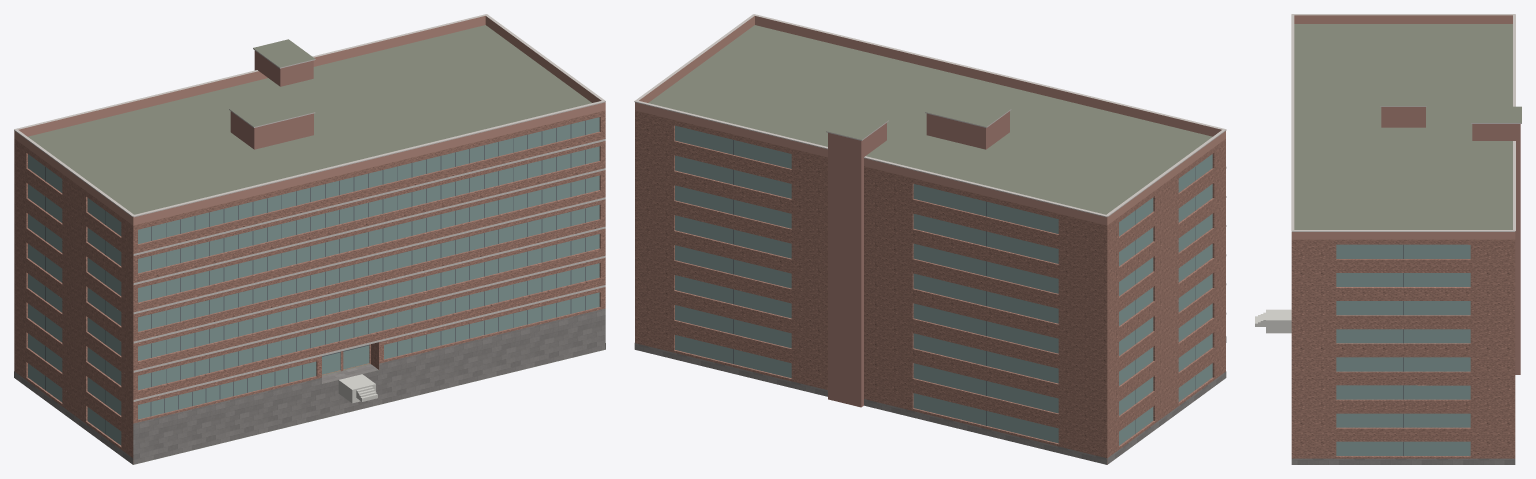
3 views of the same model, side by side, from view 1: azimuth 30°, elevation 25°; view 2: azimuth 150°, elevation 25°; view 3: azimuth 270°, elevation 25° (orthographic). The views are drawn at different scales.
Parts seen in each view (by area): view 1: b501__wall, b501__glass, b501__roof, b501__base, b501__trim, b501__parapet, b501__frame, b501__wall2, b501__entranceStair; view 2: b501__wall, b501__roof, b501__glass, b501__wall2, b501__parapet, b501__base, b501__trim; view 3: b501__roof, b501__wall, b501__glass, b501__parapet, b501__wall2, b501__trim, b501__base, b501__entranceStair.
Part boxes in pixels (bbox=[...]): b501__wall: bbox=[14, 110, 605, 464]; b501__glass: bbox=[28, 117, 599, 445]; b501__roof: bbox=[28, 25, 603, 464]; b501__base: bbox=[14, 308, 605, 464]; b501__trim: bbox=[14, 14, 605, 401]; b501__parapet: bbox=[14, 16, 605, 225]; b501__frame: bbox=[45, 120, 585, 433]; b501__wall2: bbox=[230, 50, 313, 149]; b501__entranceStair: bbox=[338, 374, 377, 403]; b501__wall: bbox=[635, 110, 1225, 464]; b501__roof: bbox=[648, 25, 1212, 214]; b501__glass: bbox=[675, 125, 1212, 445]; b501__wall2: bbox=[828, 111, 1009, 407]; b501__parapet: bbox=[635, 16, 1225, 225]; b501__base: bbox=[634, 336, 1226, 464]; b501__trim: bbox=[634, 14, 1226, 314]; b501__roof: bbox=[1294, 24, 1521, 229]; b501__wall: bbox=[1291, 239, 1515, 458]; b501__glass: bbox=[1336, 244, 1470, 455]; b501__parapet: bbox=[1291, 15, 1515, 239]; b501__wall2: bbox=[1381, 107, 1520, 374]; b501__trim: bbox=[1291, 14, 1521, 231]; b501__base: bbox=[1291, 458, 1515, 464]; b501__entranceStair: bbox=[1255, 309, 1291, 333].
Size of the model in its own units: 59.63 by 32.33 by 30.95.
Materials: 10 (2 with a texture image).
